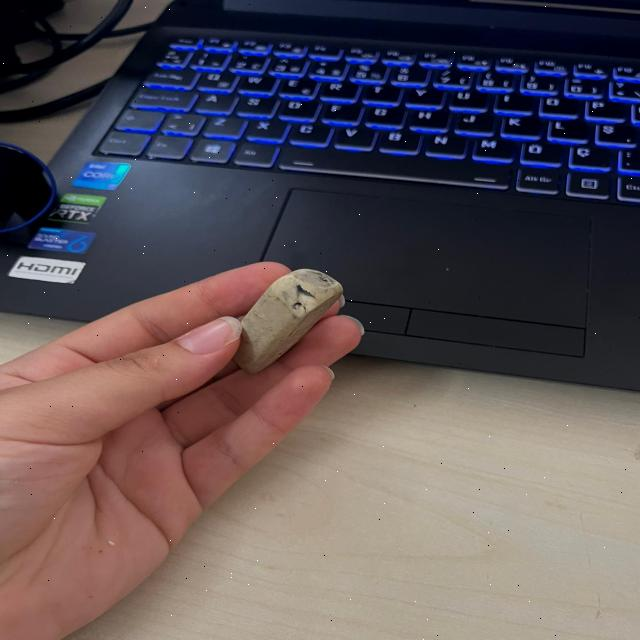eraser: (233, 263, 359, 382)
